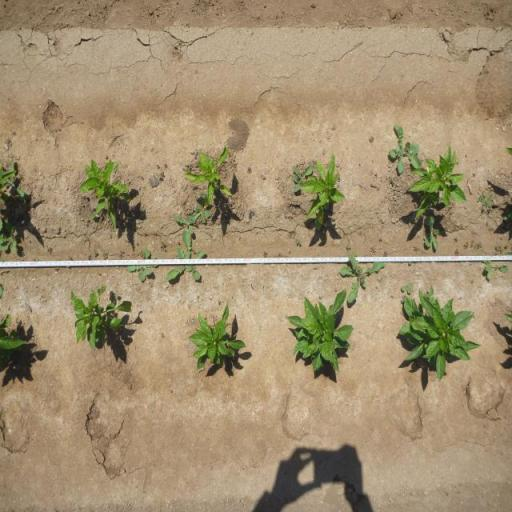plant: (394, 285, 482, 381), (286, 286, 359, 374), (405, 143, 468, 222), (65, 284, 134, 356), (186, 300, 248, 376), (78, 154, 133, 231), (183, 143, 237, 209), (302, 152, 345, 225)
weed: (339, 253, 389, 305), (165, 230, 208, 283), (386, 122, 421, 176), (128, 248, 161, 282), (291, 158, 314, 196), (193, 190, 213, 225), (480, 260, 510, 282), (424, 214, 440, 252), (0, 222, 18, 253), (173, 214, 194, 236), (476, 193, 494, 213), (400, 281, 413, 294), (503, 206, 512, 224), (182, 161, 194, 173), (494, 244, 504, 256), (109, 292, 120, 302), (157, 171, 165, 183), (88, 211, 96, 221), (462, 240, 470, 250), (475, 241, 483, 251), (389, 176, 396, 187), (101, 252, 110, 260), (160, 240, 166, 252), (295, 237, 301, 246), (92, 249, 98, 257), (247, 166, 253, 174), (346, 243, 352, 250), (263, 251, 268, 258)
